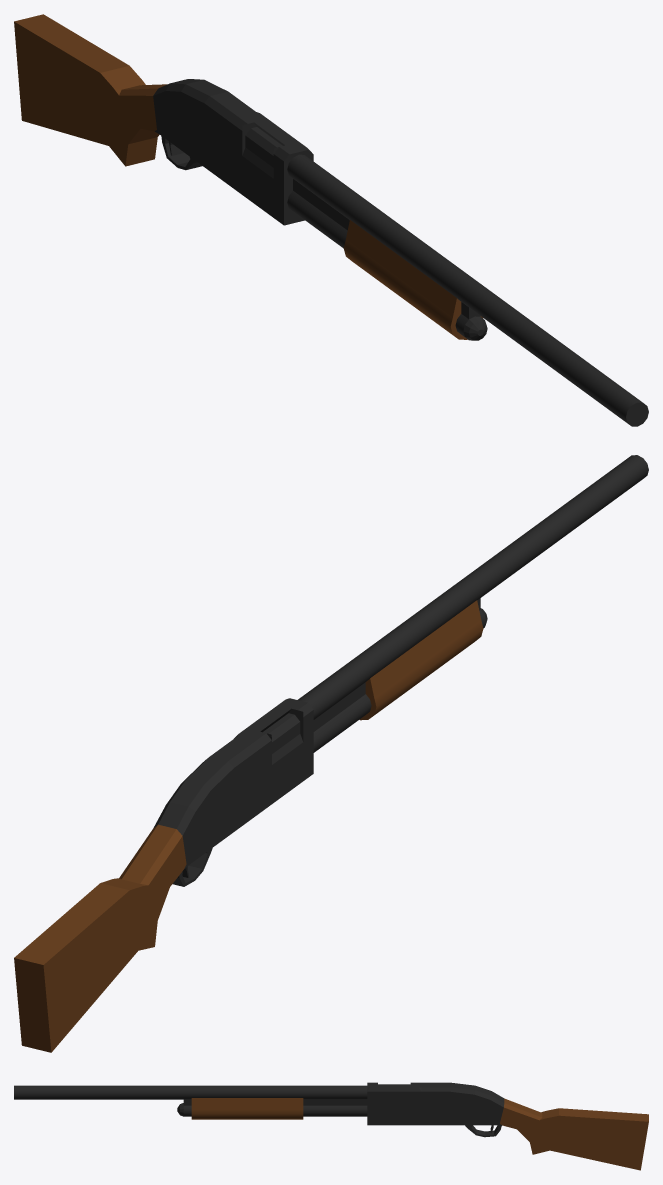
The model's file is ShotgunModel.FBX.
The picture shows the model from 3 angles, top to bottom: view 1: azimuth 30°, elevation 25°; view 2: azimuth 150°, elevation 25°; view 3: azimuth 270°, elevation 25°; orthographic projection. The views are drawn at different scales.
Parts seen in each view (by area): view 1: Box01, slide; view 2: Box01, slide; view 3: Box01, slide.
Boxes of the visible parts, bbox=[...] form: Box01: bbox=[14, 14, 648, 426]; slide: bbox=[343, 220, 483, 339]; Box01: bbox=[14, 455, 648, 1052]; slide: bbox=[359, 600, 483, 720]; Box01: bbox=[14, 1082, 648, 1170]; slide: bbox=[191, 1098, 303, 1119].
Bounding box in the file's own units: 23.65 × 108 × 761.
